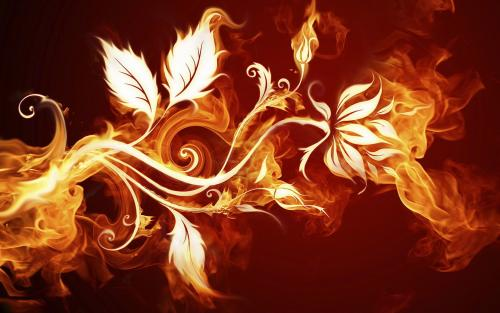fire: (388, 73, 473, 220), (2, 142, 79, 274)
